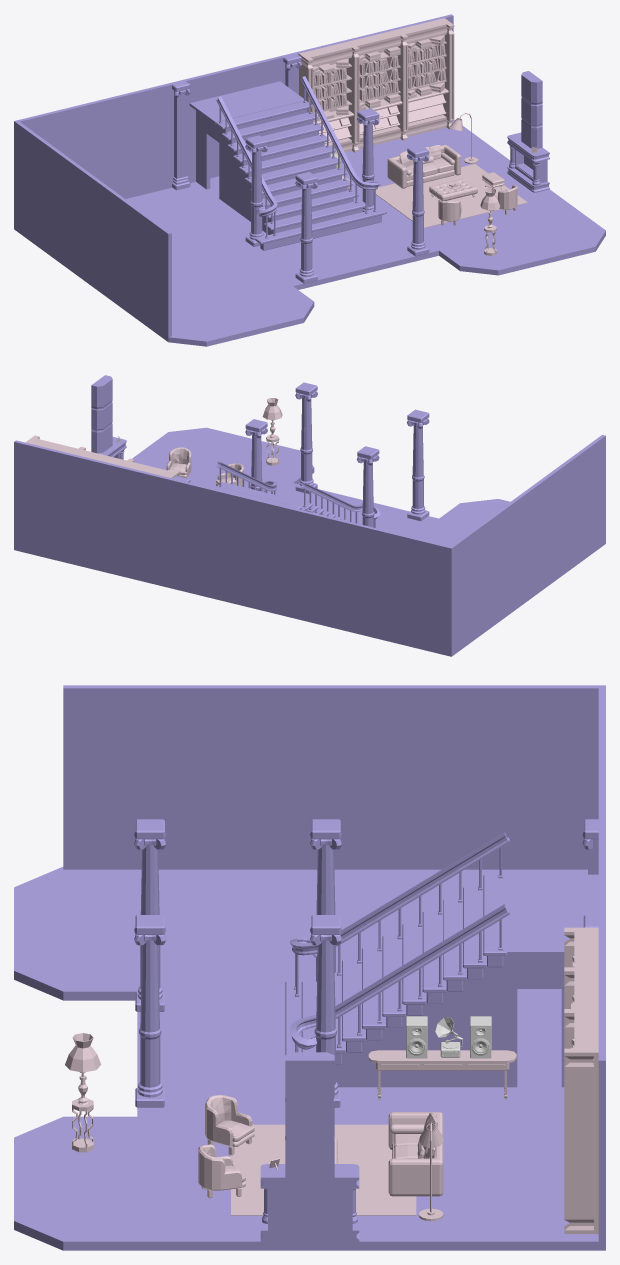
File: Manor_LivingRoom_2021.11.24.fbx
3 views of the same model, one above another, from view 1: azimuth 30°, elevation 25°; view 2: azimuth 150°, elevation 25°; view 3: azimuth 270°, elevation 25° (orthographic). The views are drawn at different scales.
Visible parts, largest first — view 1: Cube, Cube.029, Cube.028, Cube.001, Cube.037, Cube.052, Cylinder.011, Cube.015, Cube.020, Cube.049, Cube.025, Cylinder.009 (+6 smaller); view 2: Cube.028, Cube.029, Cube, Cylinder.011, Cube.015, Cube.037, Cube.019, Cube.001, Cylinder.005, Cube.032, Cube.026; view 3: Cube, Cube.029, Cube.001, Cube.015, Cylinder.011, Cube.020, Cube.037, Cube.049, Cube.025, Cube.019, Cube.028, Cube.031 (+8 smaller).
Part boxes in pixels (<box>): Cube: <box>14,120,605,346</box>; Cube.029: <box>16,121,171,336</box>; Cube.028: <box>14,14,453,225</box>; Cube.001: <box>216,101,386,250</box>; Cube.037: <box>298,18,454,154</box>; Cube.052: <box>313,35,446,132</box>; Cylinder.011: <box>245,108,429,283</box>; Cube.015: <box>507,71,549,192</box>; Cube.020: <box>196,110,269,234</box>; Cube.049: <box>374,164,527,228</box>; Cube.025: <box>189,81,305,124</box>; Cylinder.009: <box>172,54,301,190</box>; Cube.028: <box>14,440,453,651</box>; Cube.029: <box>450,435,605,649</box>; Cube: <box>14,427,605,656</box>; Cylinder.011: <box>245,382,429,527</box>; Cube.015: <box>91,375,126,459</box>; Cube.037: <box>25,435,180,478</box>; Cube.019: <box>216,461,380,519</box>; Cube.001: <box>216,482,346,520</box>; Cylinder.005: <box>262,398,282,465</box>; Cube.032: <box>166,447,191,478</box>; Cube.026: <box>219,468,375,527</box>; Cube: <box>14,867,605,1250</box>; Cube.029: <box>63,685,598,869</box>; Cube.001: <box>285,875,507,1064</box>; Cube.015: <box>260,1052,359,1241</box>; Cylinder.011: <box>134,819,341,1107</box>; Cube.020: <box>336,955,564,1087</box>; Cube.037: <box>564,927,598,1233</box>; Cube.049: <box>231,1124,416,1215</box>; Cube.025: <box>507,874,598,956</box>; Cube.019: <box>289,832,509,1049</box>; Cube.028: <box>598,685,605,1241</box>; Cube.031: <box>388,1112,443,1196</box>.
Size of the model in its own units: 1800 by 433 by 1200.
